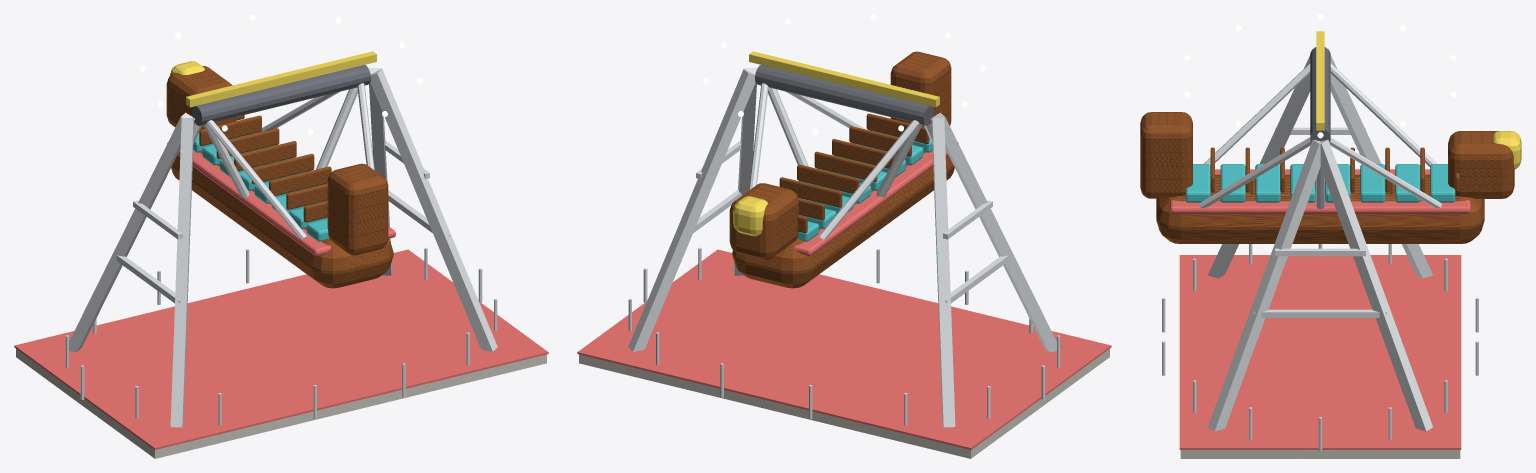
Rendered from theme-park-rides-and-coasters-theme-park-rides-and-coa-c02a2344__28659.glb.
3 renders of one model, left to right at view 1: azimuth 30°, elevation 25°; view 2: azimuth 150°, elevation 25°; view 3: azimuth 270°, elevation 25°, orthographic.
Visible parts, largest first — view 1: theme-park-rides-and-coasters-pirate-ship, ship/timber, ship/steel, ship/charcoal, ship/red, ship/teal; view 2: theme-park-rides-and-coasters-pirate-ship, ship/timber, ship/steel, ship/charcoal, ship/red, ship/teal, ship/yellow; view 3: theme-park-rides-and-coasters-pirate-ship, ship/timber, ship/teal, ship/steel, ship/red, ship/charcoal, ship/yellow.
Boxes of the visible parts, x1,y1,x2,y2 form: theme-park-rides-and-coasters-pirate-ship: [14, 14, 548, 458]; ship/timber: [166, 66, 393, 288]; ship/steel: [193, 83, 374, 239]; ship/charcoal: [192, 65, 370, 125]; ship/red: [167, 142, 395, 255]; ship/teal: [193, 133, 328, 241]; theme-park-rides-and-coasters-pirate-ship: [577, 14, 1111, 458]; ship/timber: [729, 51, 954, 288]; ship/steel: [749, 83, 932, 239]; ship/charcoal: [755, 65, 933, 125]; ship/red: [794, 130, 958, 255]; ship/teal: [797, 130, 932, 241]; ship/yellow: [733, 196, 767, 236]; theme-park-rides-and-coasters-pirate-ship: [1162, 14, 1478, 458]; ship/timber: [1140, 112, 1514, 243]; ship/teal: [1185, 164, 1455, 202]; ship/steel: [1199, 63, 1441, 209]; ship/red: [1170, 169, 1470, 213]; ship/charcoal: [1310, 47, 1330, 142]; ship/yellow: [1493, 131, 1521, 169].
Bounding box in the file's own units: 13.3 × 9.14 × 10.9.
8 materials, 2 textured.
